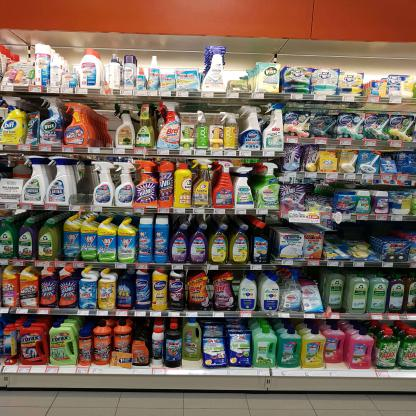Void: (331, 222, 372, 249), (92, 104, 115, 151), (76, 162, 94, 204)
